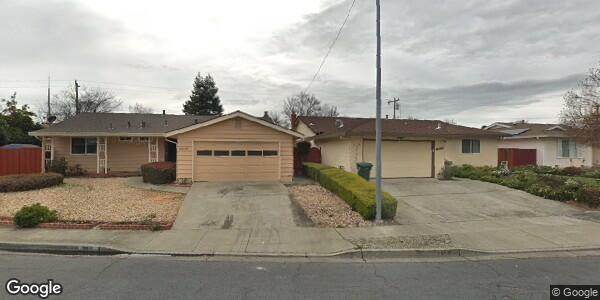Steel_Pole: (371, 1, 387, 227)
